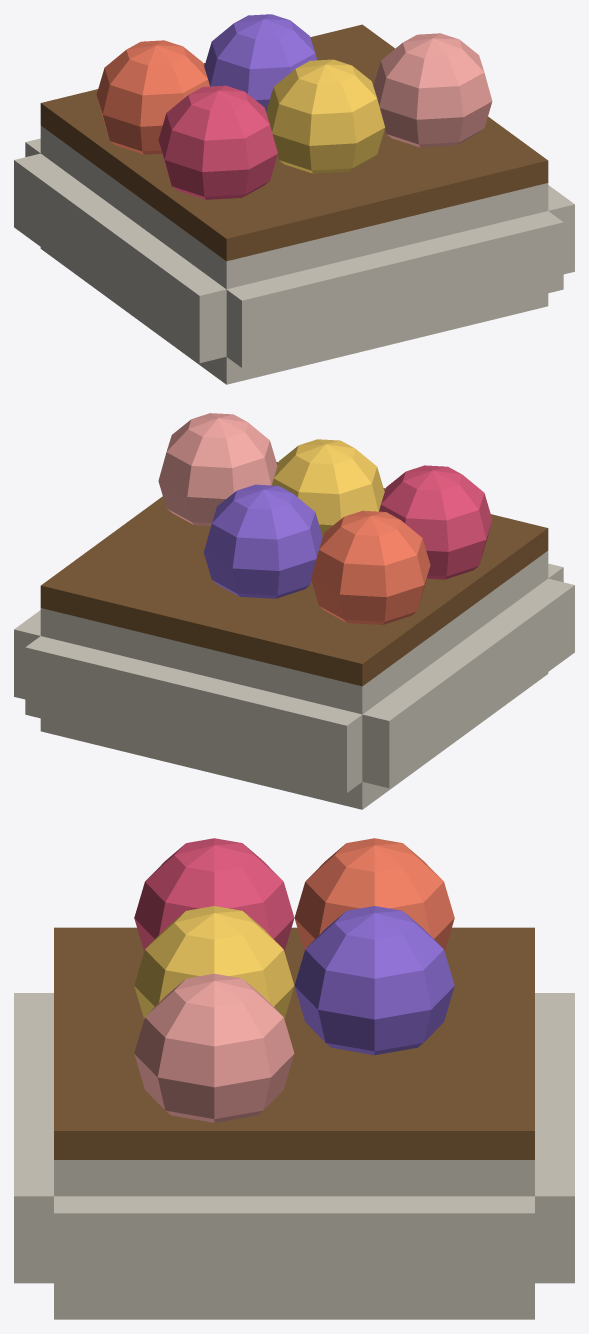
The model's file is planter.glb.
3 renders of one model, top to bottom at view 1: azimuth 30°, elevation 25°; view 2: azimuth 150°, elevation 25°; view 3: azimuth 270°, elevation 25°, orthographic. The views are drawn at different scales.
Visible parts, largest first — view 1: planter; view 2: planter; view 3: planter.
Part boxes in pixels (x1,y1,x2,y2): planter: (14, 14, 574, 384); planter: (14, 413, 574, 809); planter: (14, 838, 574, 1319).
Size of the model in its own units: 0.7 by 0.42 by 0.7.
